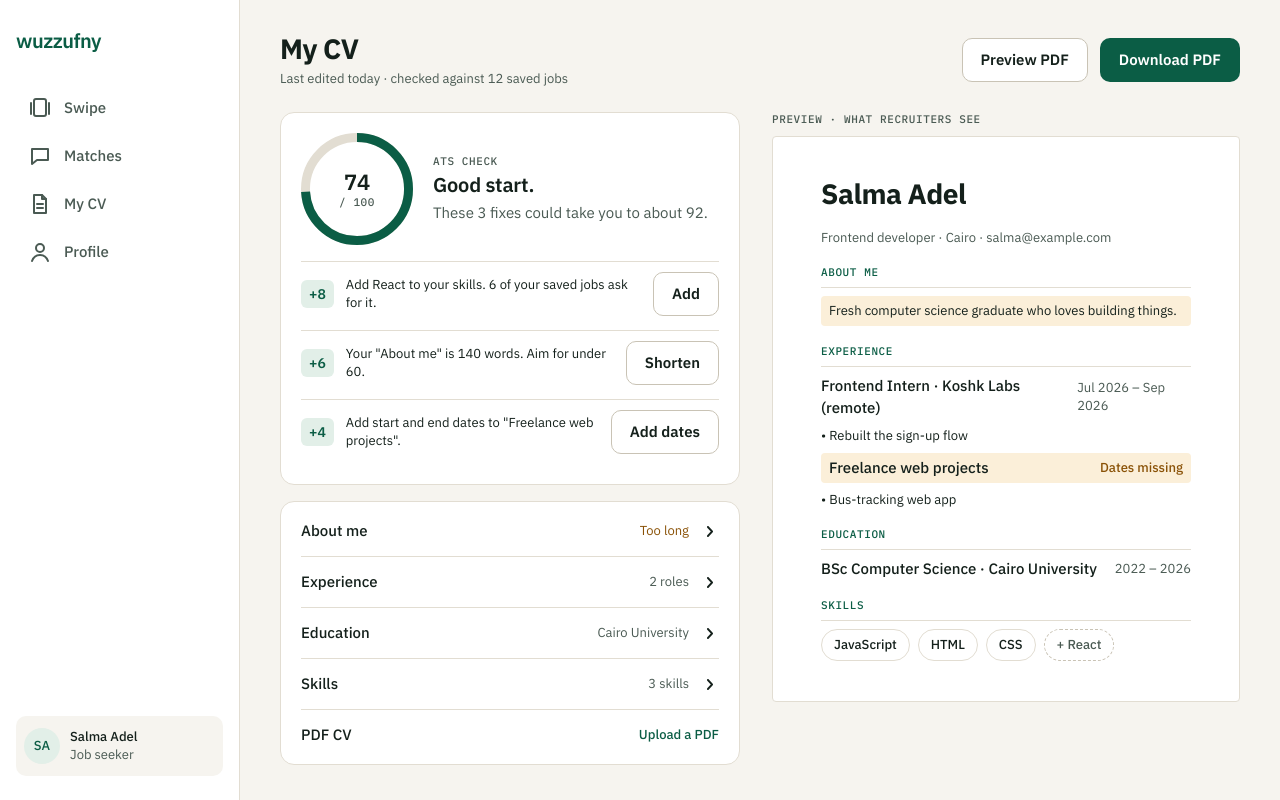
it: H6 My CV › a save error stays in the dialog
Click the button "About me Too long". click: click(334, 530)
box: top-left (301, 506), bottom-right (719, 556)
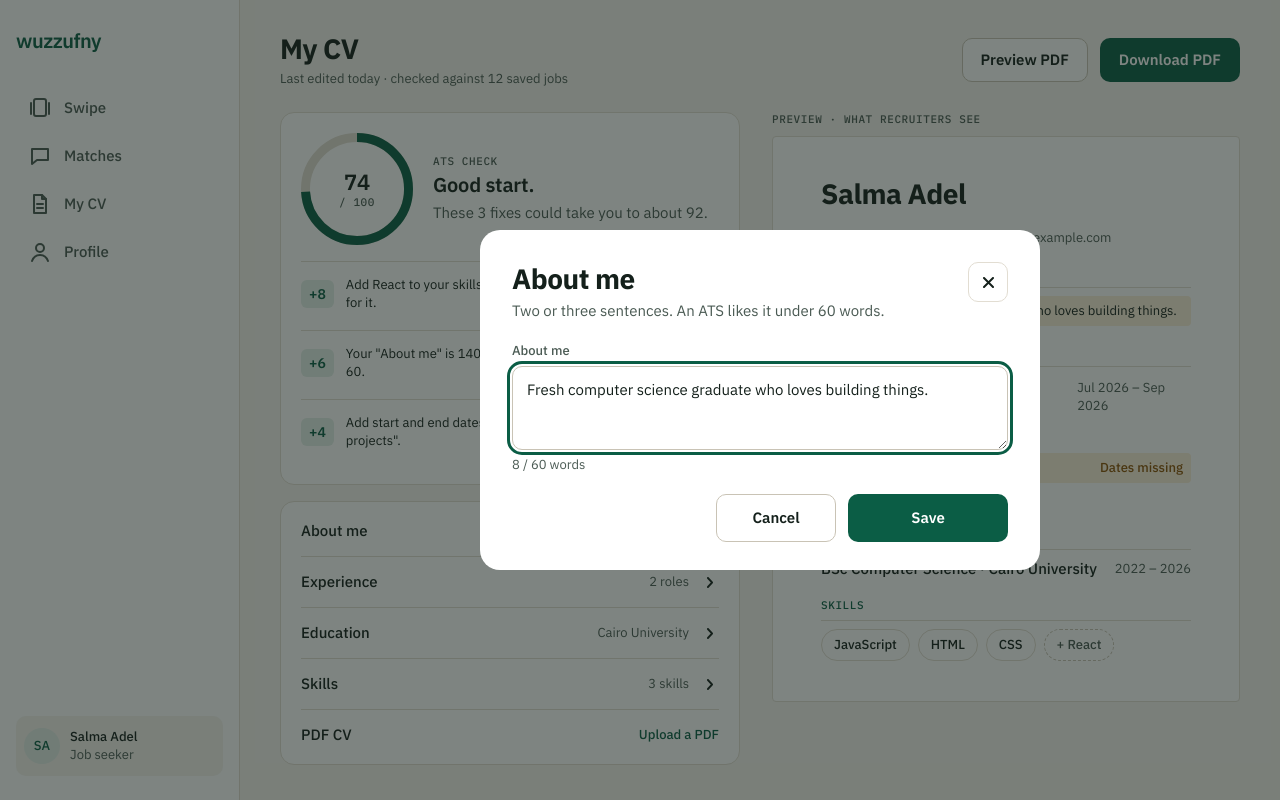
Click the button "Save". click: click(928, 518)
box: top-left (848, 494), bottom-right (1008, 542)
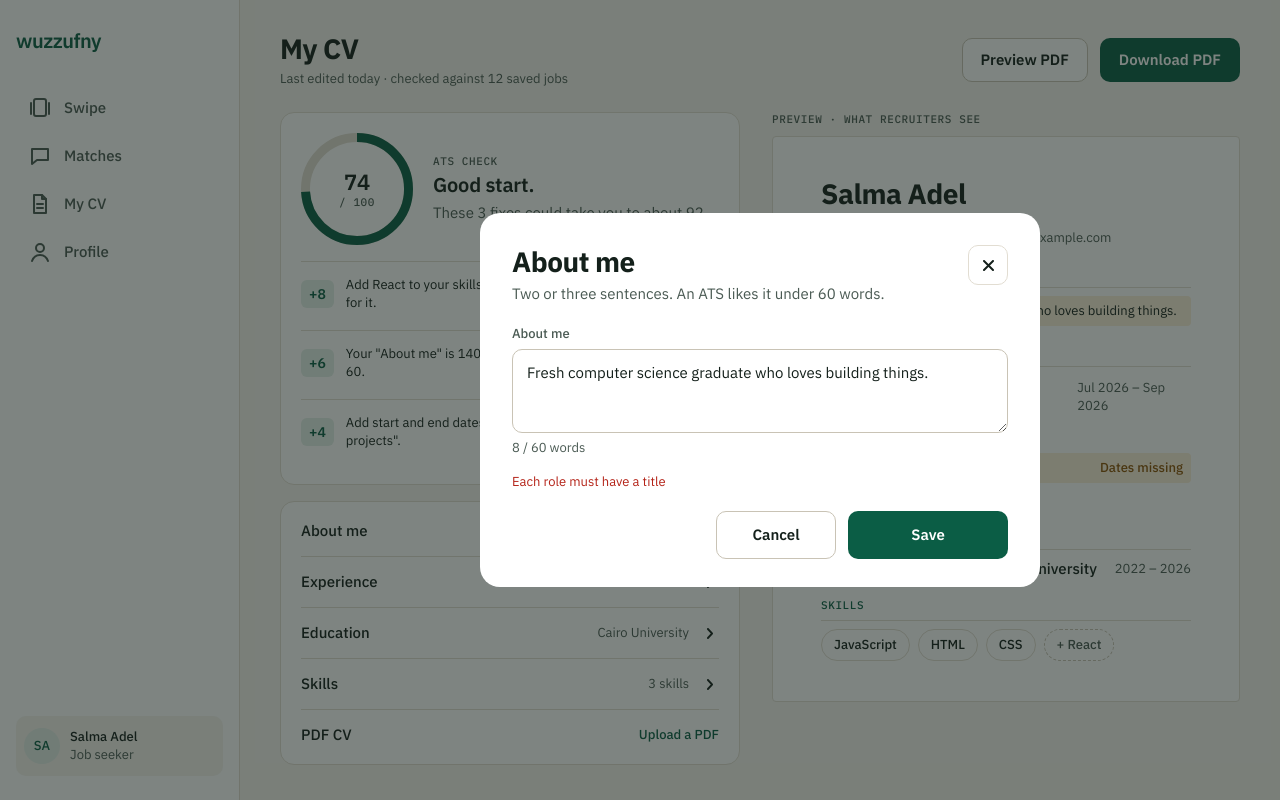
Expected: the dialog is shown, top-left (480, 213), bottom-right (1040, 587)
Expected: the message reads "Each role must have a title", top-left (512, 473), bottom-right (666, 490)
